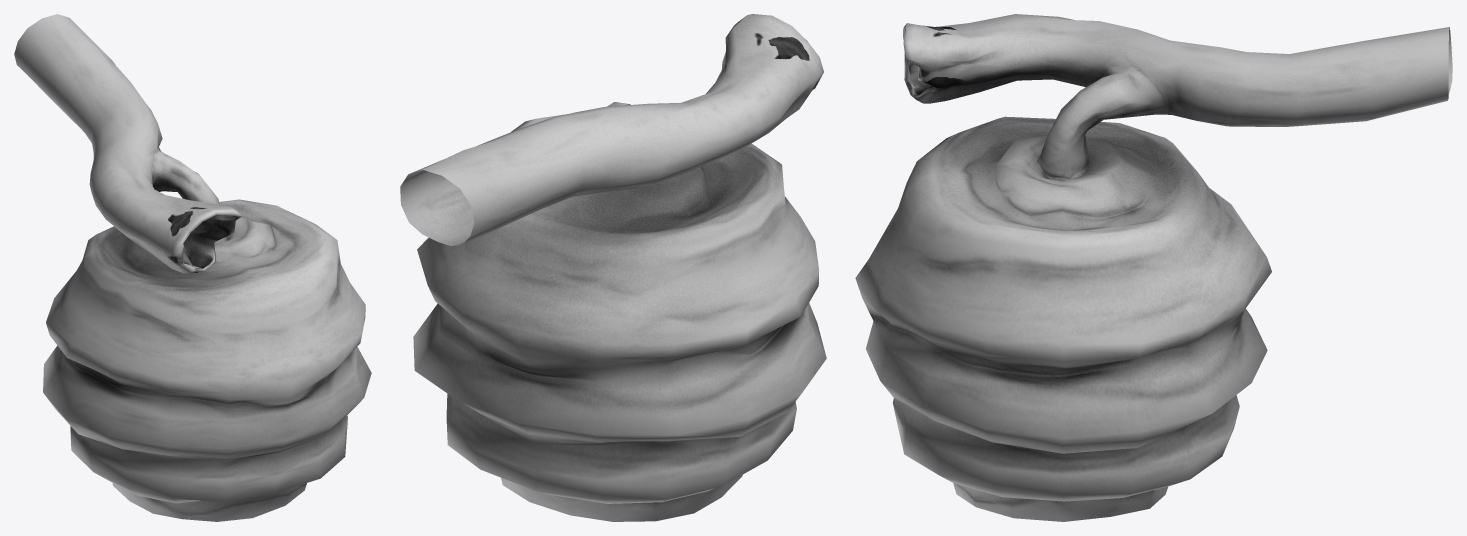
File: beehive.fbx
3 renders of one model, left to right at view 1: azimuth 30°, elevation 25°; view 2: azimuth 150°, elevation 25°; view 3: azimuth 270°, elevation 25°, orthographic. The views are drawn at different scales.
Parts seen in each view (by area): view 1: beehive; view 2: beehive; view 3: beehive.
Boxes of the visible parts, x1=… form: beehive: x1=14, y1=14, x2=371, y2=521; beehive: x1=400, y1=14, x2=826, y2=521; beehive: x1=855, y1=14, x2=1452, y2=521.
Size of the model in its own units: 391 by 471 by 567.
1 material, 1 textured.
